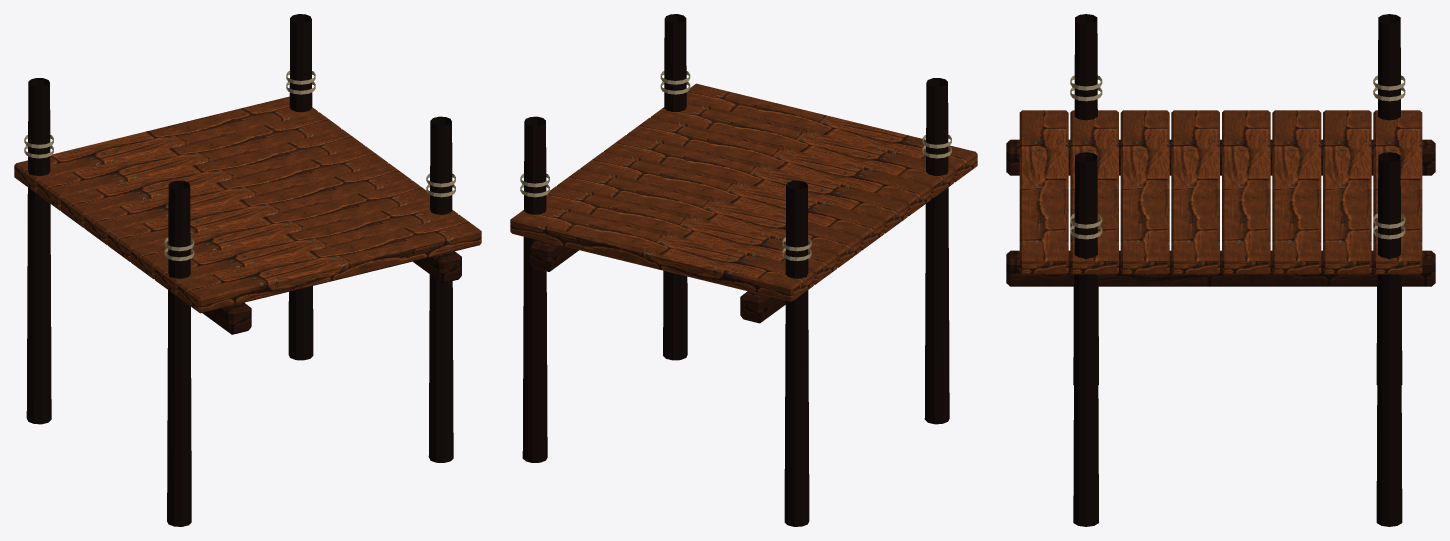
Rendered from timber-dock.glb.
The picture shows the model from 3 angles, left to right: view 1: azimuth 30°, elevation 25°; view 2: azimuth 150°, elevation 25°; view 3: azimuth 270°, elevation 25°; orthographic projection. The views are drawn at different scales.
Parts seen in each view (by area): view 1: timber-dock|3dtextures-aged-wood, timber-dock|3dtextures-oiled-wood, timber-dock|twisted-flax-rope; view 2: timber-dock|3dtextures-aged-wood, timber-dock|3dtextures-oiled-wood, timber-dock|twisted-flax-rope; view 3: timber-dock|3dtextures-aged-wood, timber-dock|3dtextures-oiled-wood, timber-dock|twisted-flax-rope.
Boxes of the visible parts, x1,y1,x2,y2 form: timber-dock|3dtextures-aged-wood: [14, 96, 481, 313]; timber-dock|3dtextures-oiled-wood: [26, 14, 461, 526]; timber-dock|twisted-flax-rope: [24, 71, 455, 261]; timber-dock|3dtextures-aged-wood: [510, 83, 977, 301]; timber-dock|3dtextures-oiled-wood: [522, 14, 949, 526]; timber-dock|twisted-flax-rope: [520, 71, 951, 260]; timber-dock|3dtextures-aged-wood: [1019, 110, 1422, 274]; timber-dock|3dtextures-oiled-wood: [1006, 14, 1435, 526]; timber-dock|twisted-flax-rope: [1070, 75, 1405, 239].
Bounding box in the file's own units: 2.13 × 2.39 × 2.55.
3 materials, 2 textured.
